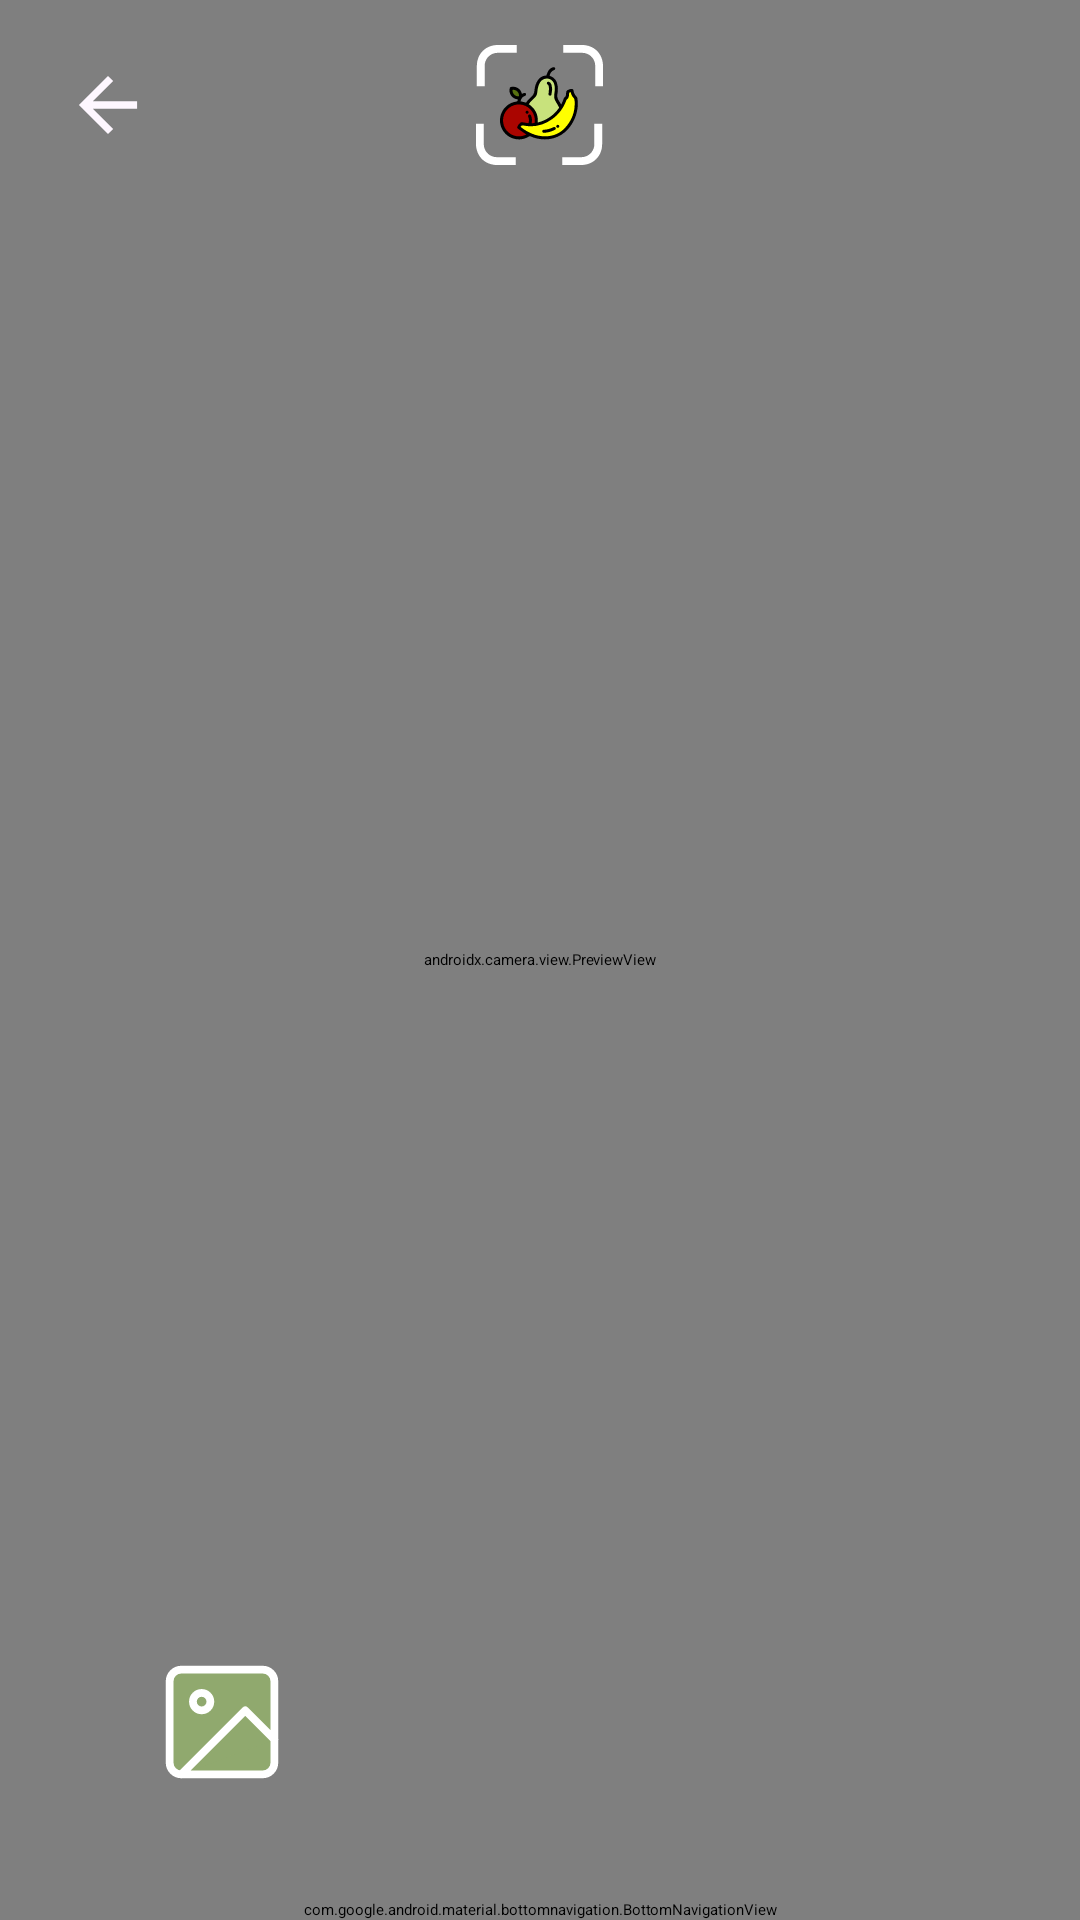

Icon bounding boxes for this 1080×1920 phone screenshot, format bbox(x1, y1, x2, y2):
cam gallery: bbox(165, 1665, 279, 1779)
